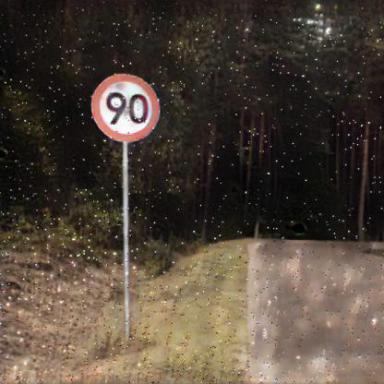Speed_limit_90: (93, 74, 158, 141)
